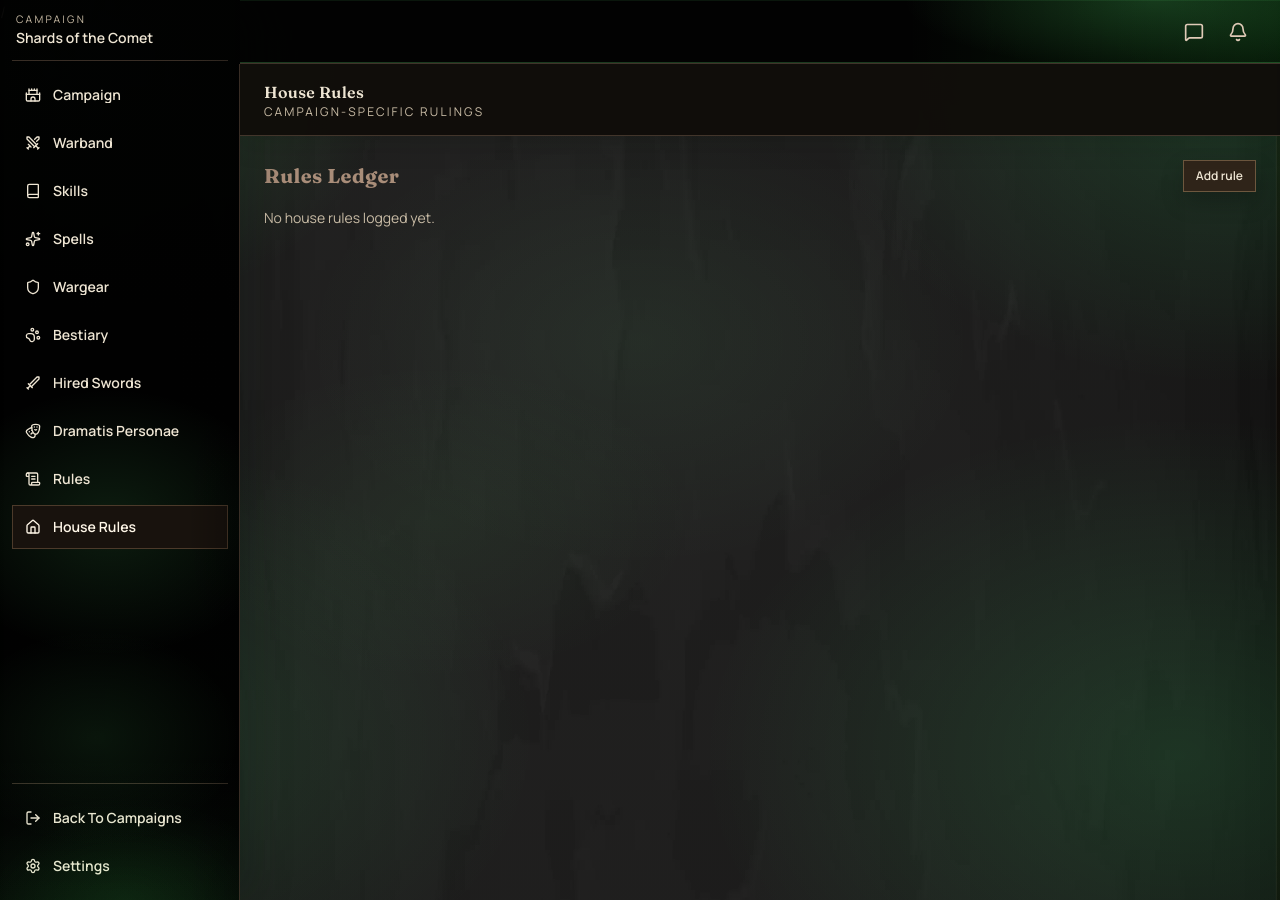
Test: Common Rules › posts every picked rule at once; when one fails, the one created joins the list, only the failure is reported, and a retry posts just that one (BUG-52, CAMP-TES
The image size is (1280, 900).
Expected: the text "No house rules logged yet." is shown, [264,208,435,227]
Step 1. Click the button "Add rule" → (1219, 176), box [1183,160,1256,192]
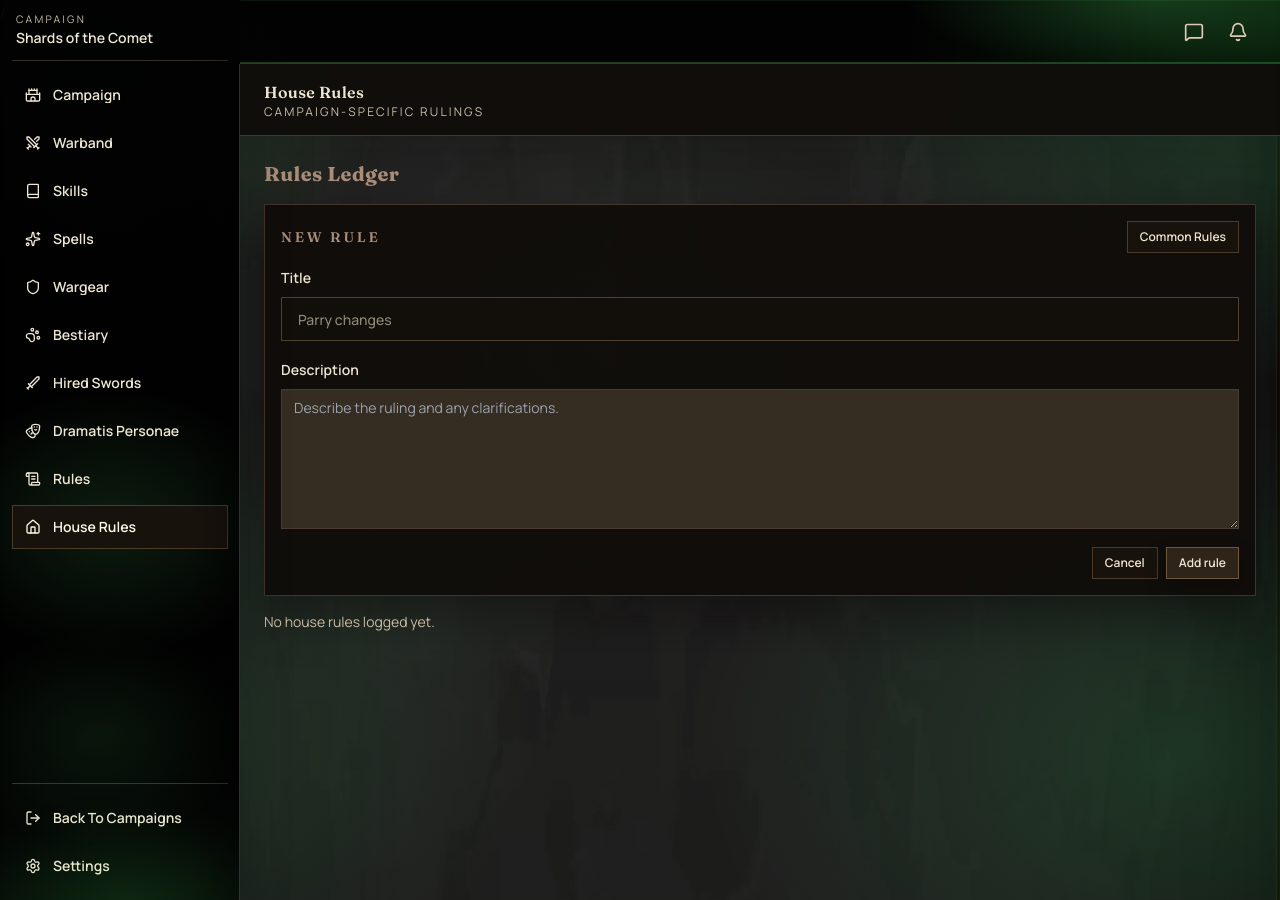
Step 2. Click the button "Common Rules" → (1183, 237), box [1127,221,1239,253]
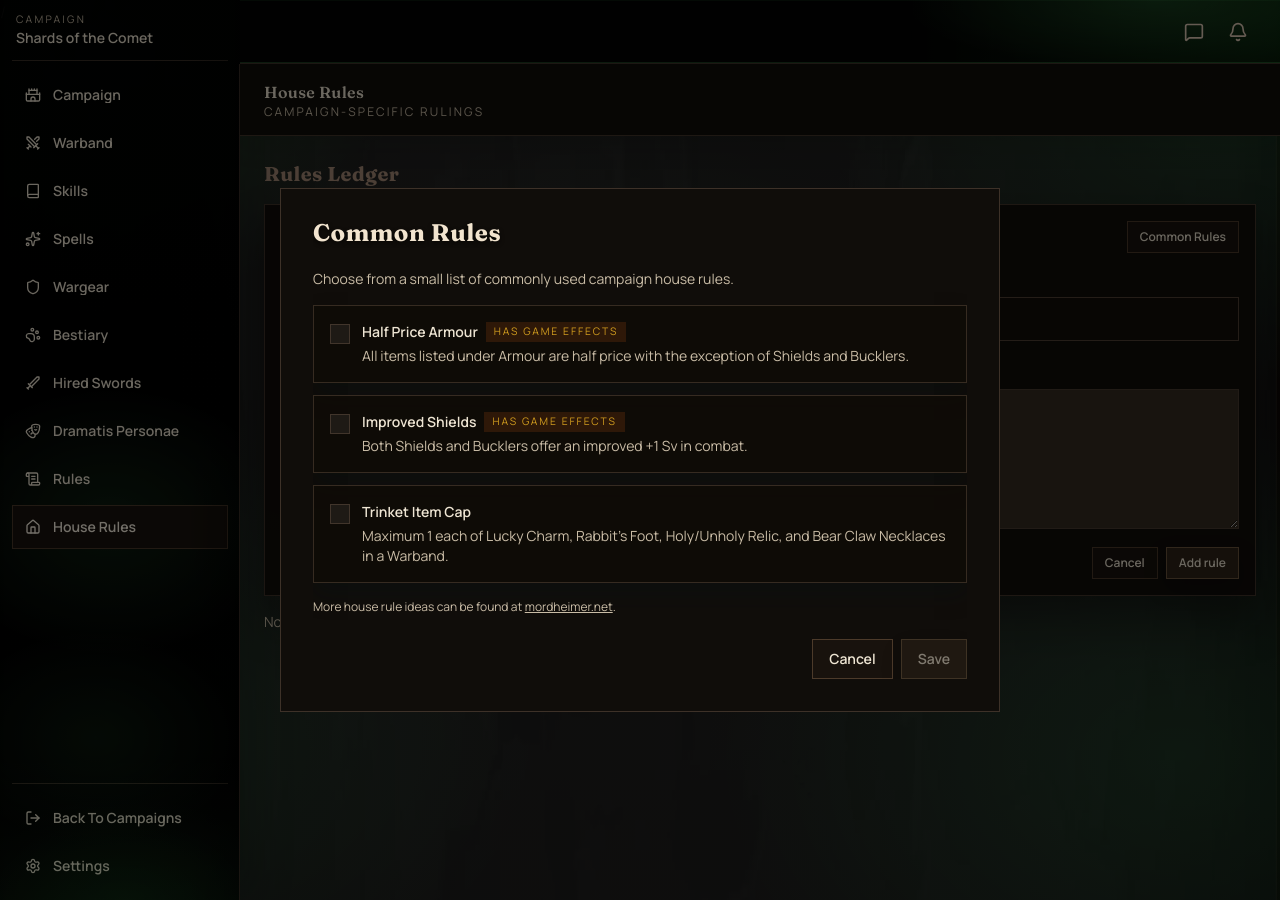
Step 3. Click the checkbox labelled "Half Price Armour" → (640, 344), box [313,305,967,383]
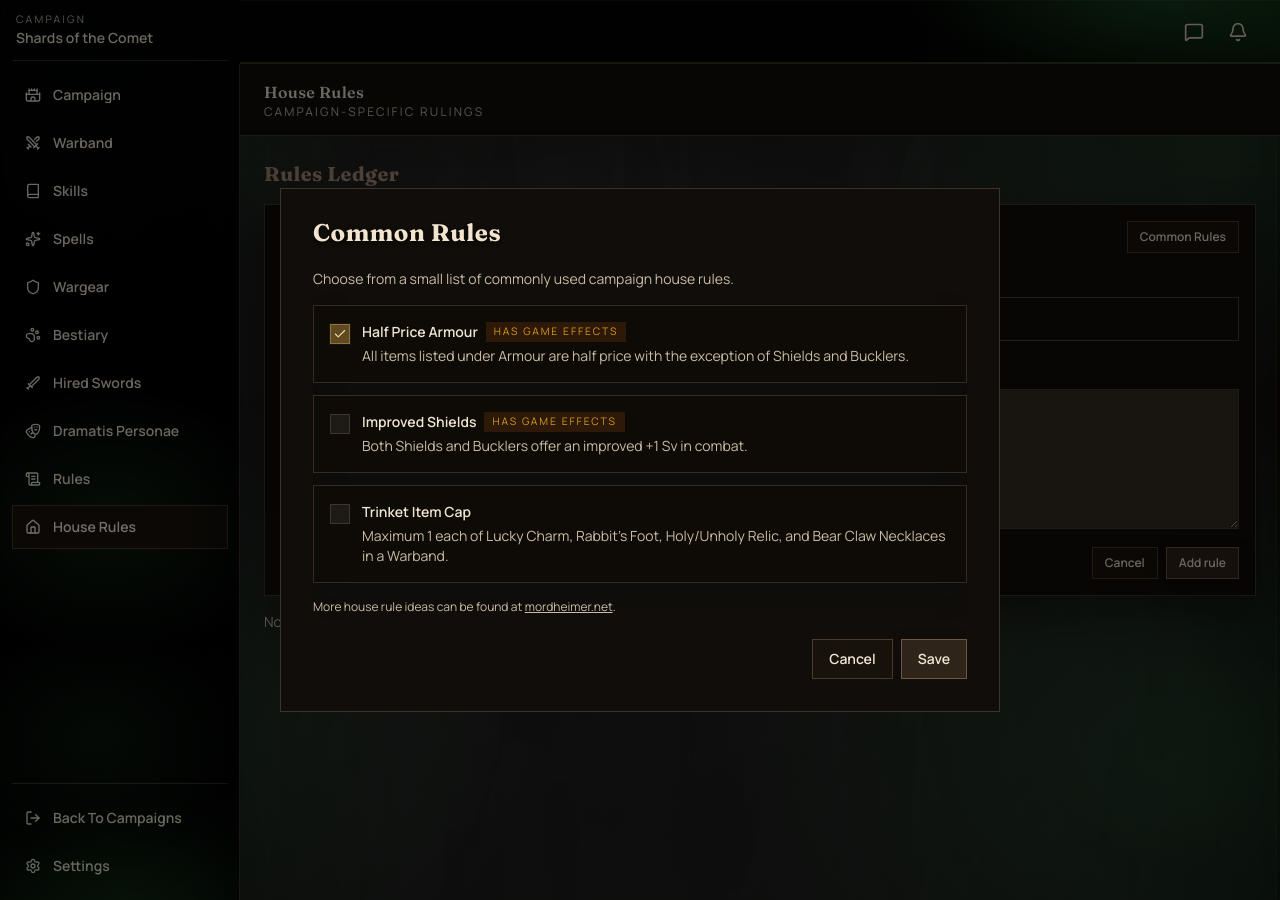
Step 4. Click the checkbox labelled "Improved Shields" → (640, 434), box [313,395,967,473]
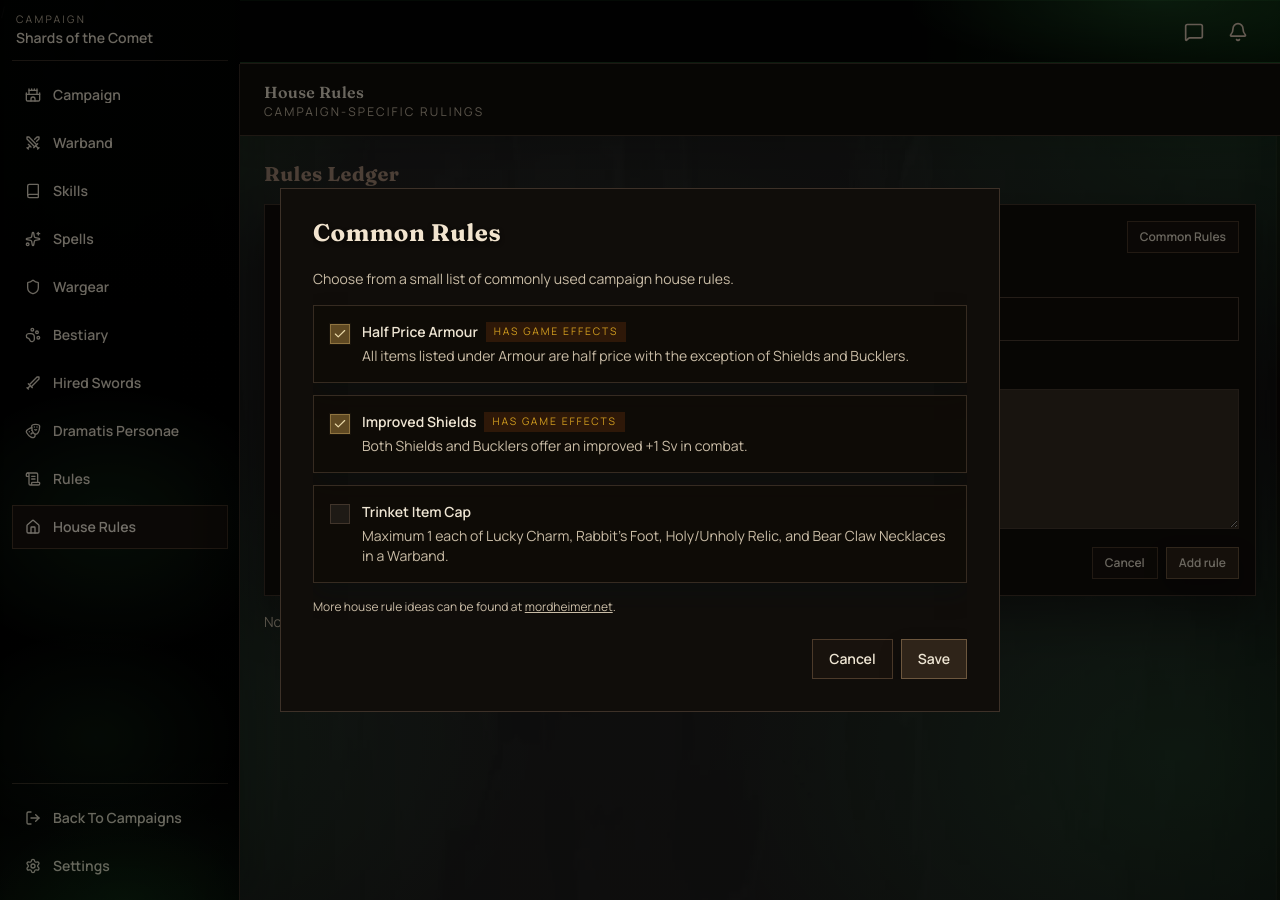
Step 5. Click the button "Save" → (934, 659), box [901,639,967,679]
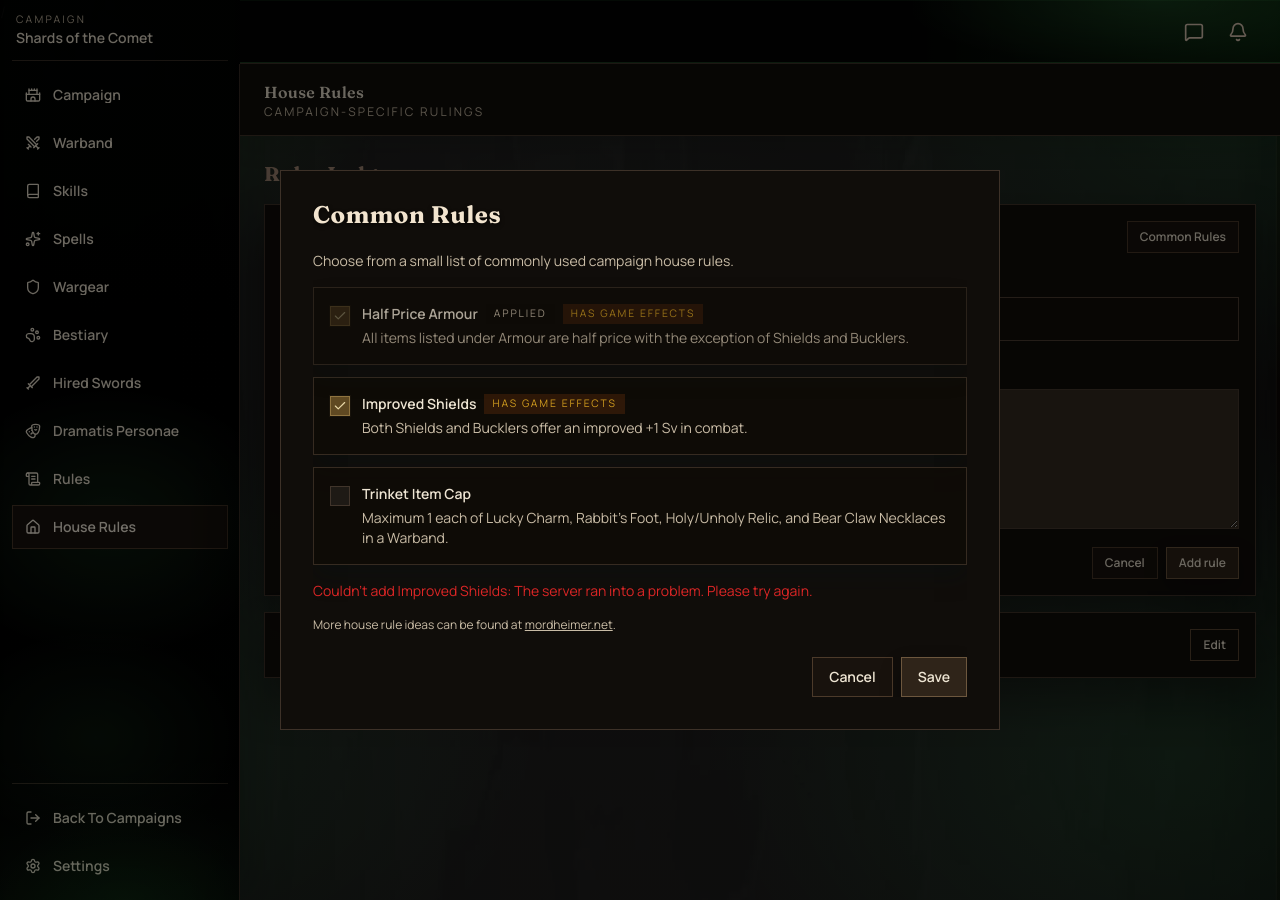
Result: the text "Couldn't add Improved Shields: The server ran into a problem. Please try again." is shown at [313,581,812,600]
Result: the text "No house rules logged yet." is gone
Result: the text "Half Price Armour" is shown 2 times at [281,629,397,649]; [362,304,478,324]
Step 6. Click the button "Save" → (934, 677), box [901,657,967,697]
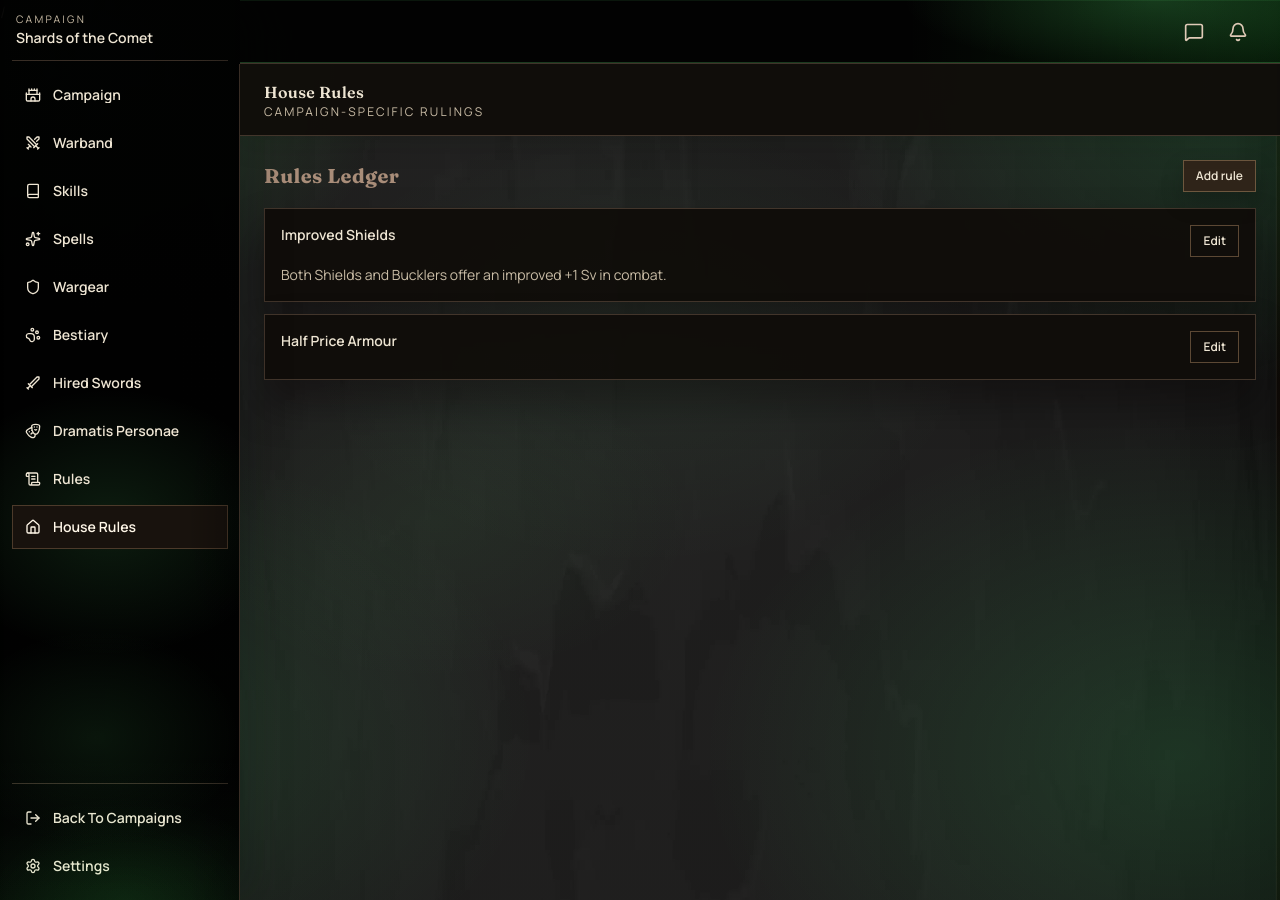
Result: the dialog is gone
Result: the text "Half Price Armour" is shown once at [281,331,397,351]
Result: the text "Improved Shields" is shown once at [281,225,395,245]
